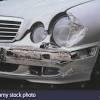Headlight-Damage: (14, 19, 86, 49)
front-bumper-dent: (1, 46, 95, 79)
